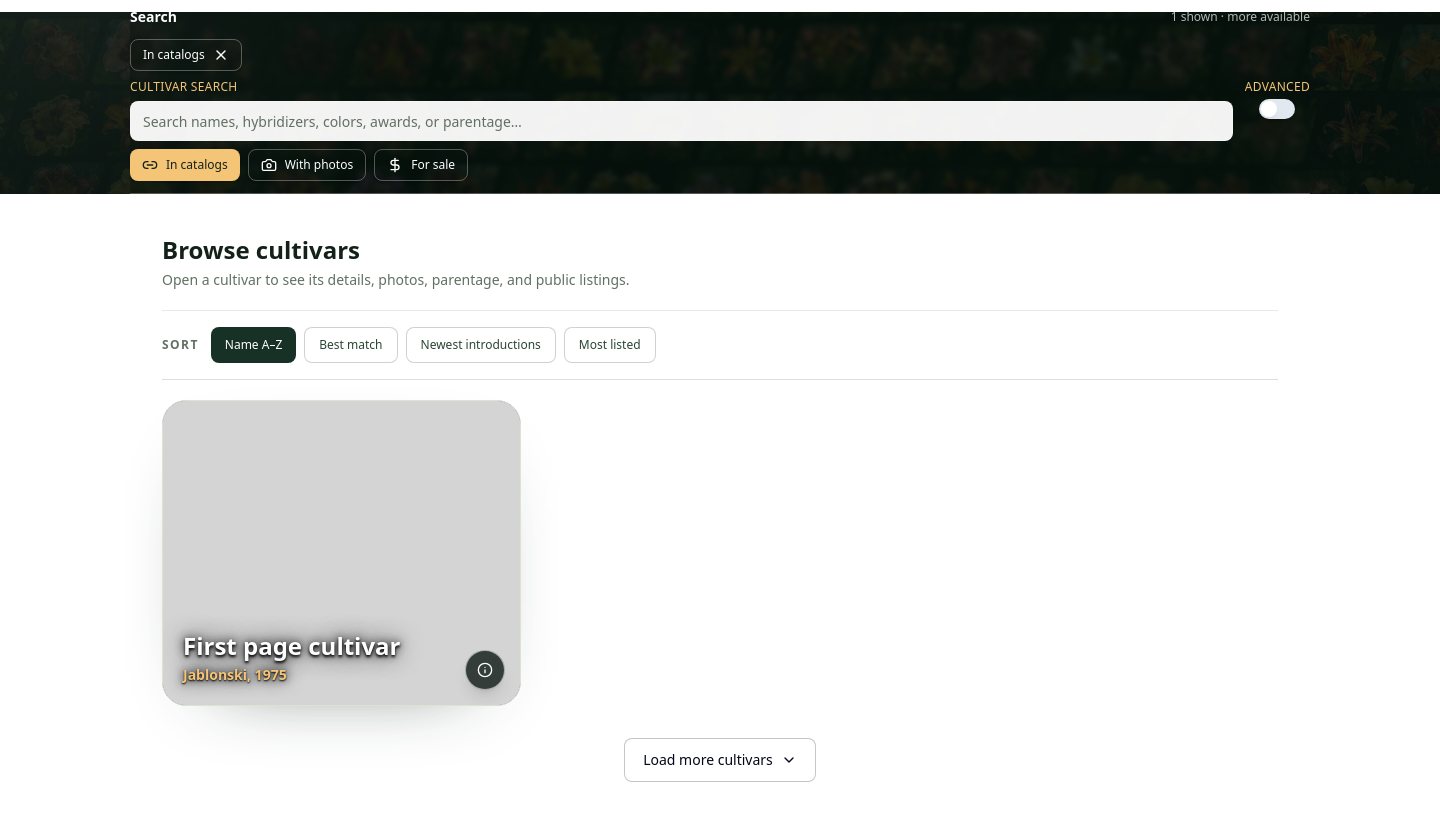
CultivarSearchPageClient › does not append an old pagination response after filters change
Expected: the heading "First page cultivar" is shown, [183, 629, 400, 662]
Click the button "Load more cultivars" at (720, 760), box [624, 738, 816, 782]
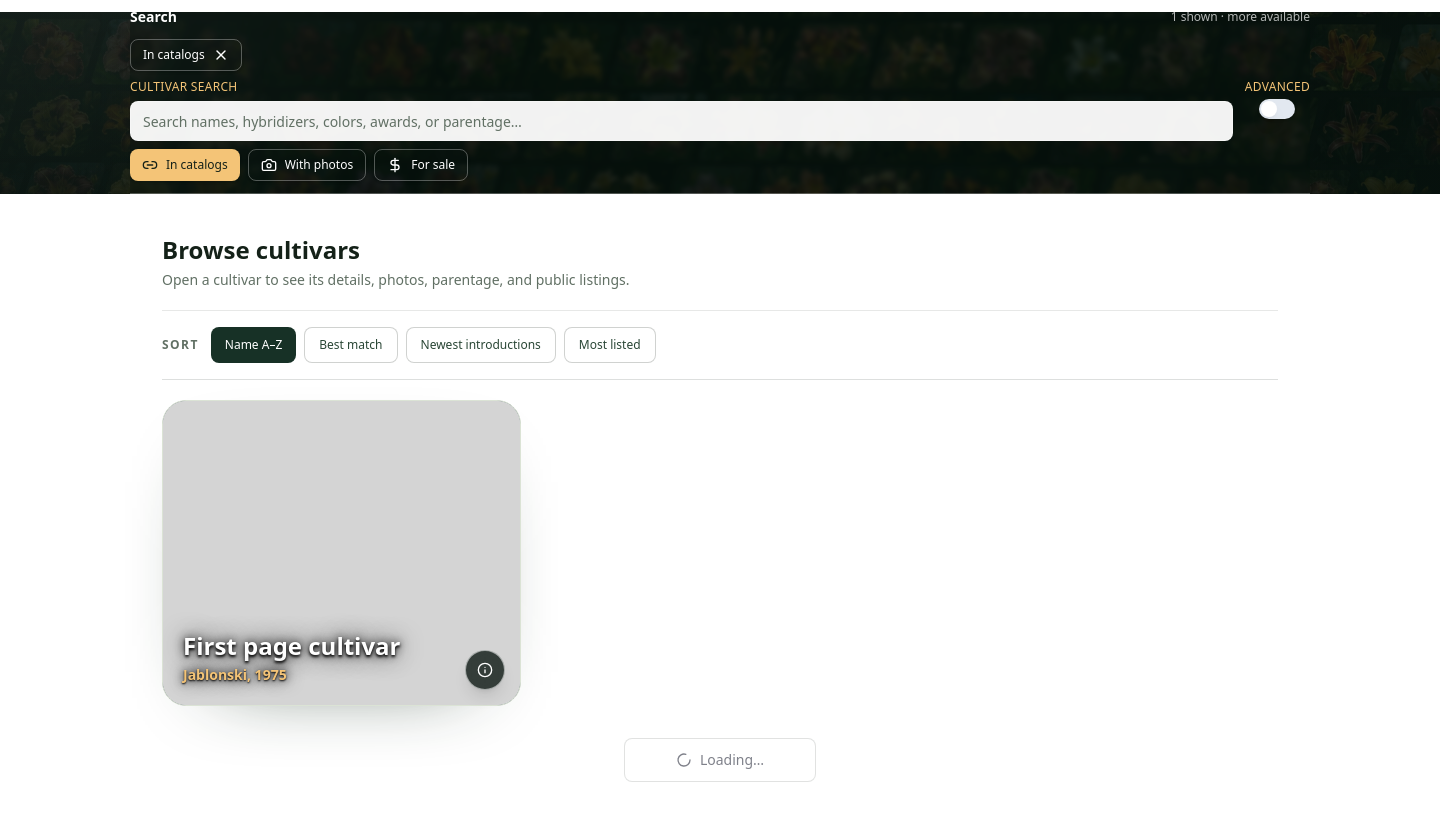
Click the button "With photos" at (307, 165), box [248, 149, 366, 181]
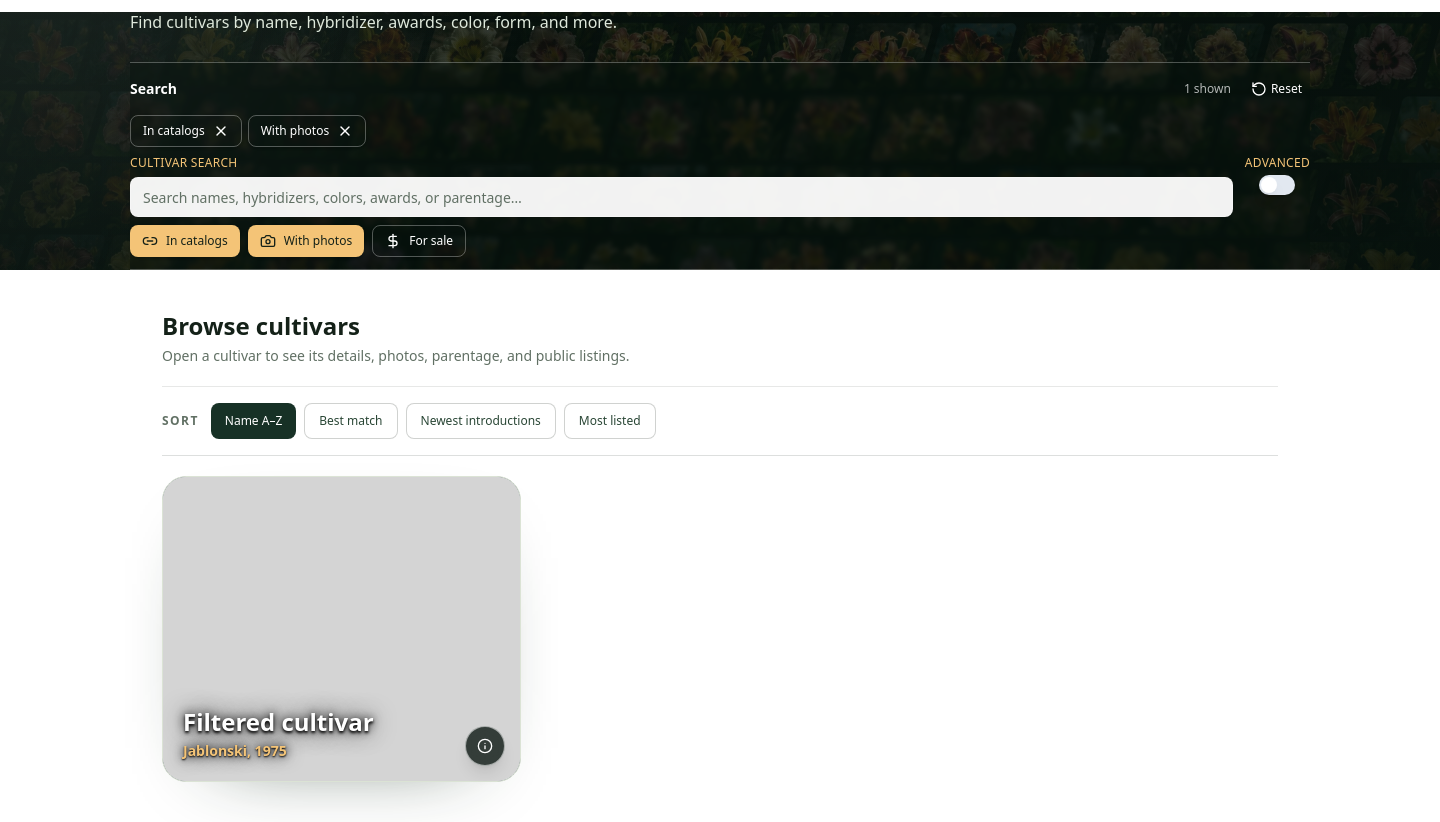
Result: the heading "Filtered cultivar" is shown at [183, 705, 374, 738]
